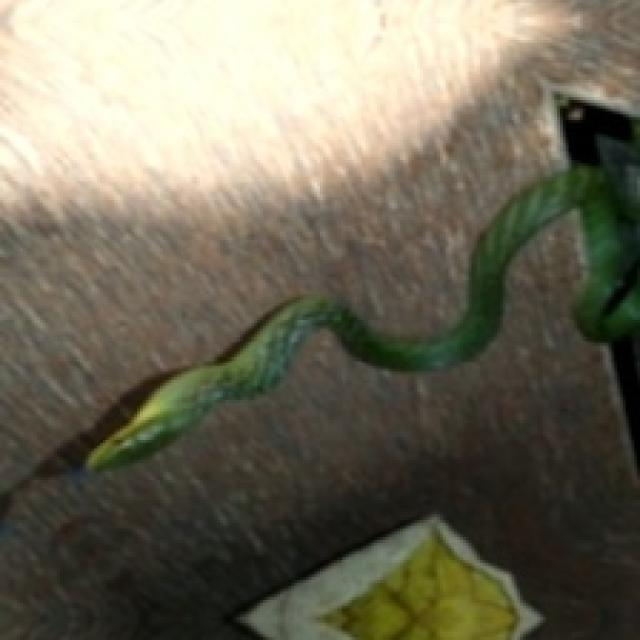red-tailed green ratsnake: (88, 168, 640, 469)
